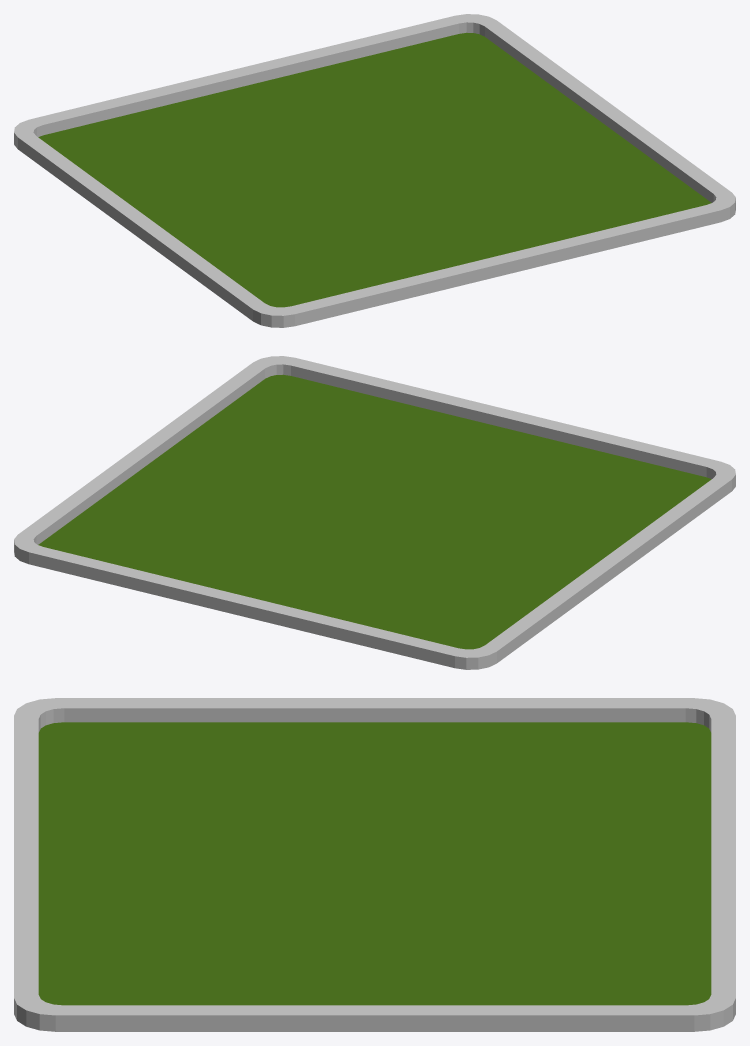
The picture shows the model from 3 angles, top to bottom: view 1: azimuth 30°, elevation 25°; view 2: azimuth 150°, elevation 25°; view 3: azimuth 270°, elevation 25°; orthographic projection. The views are drawn at different scales.
Parts seen in each view (by area): view 1: Plane.046; view 2: Plane.046; view 3: Plane.046.
Boxes of the visible parts, left/top/right/bottom form: Plane.046: left=14, top=14, right=735, bottom=327; Plane.046: left=14, top=356, right=735, bottom=669; Plane.046: left=14, top=698, right=735, bottom=1031.
Size of the model in its own units: 1930 by 1856 by 46.45.
